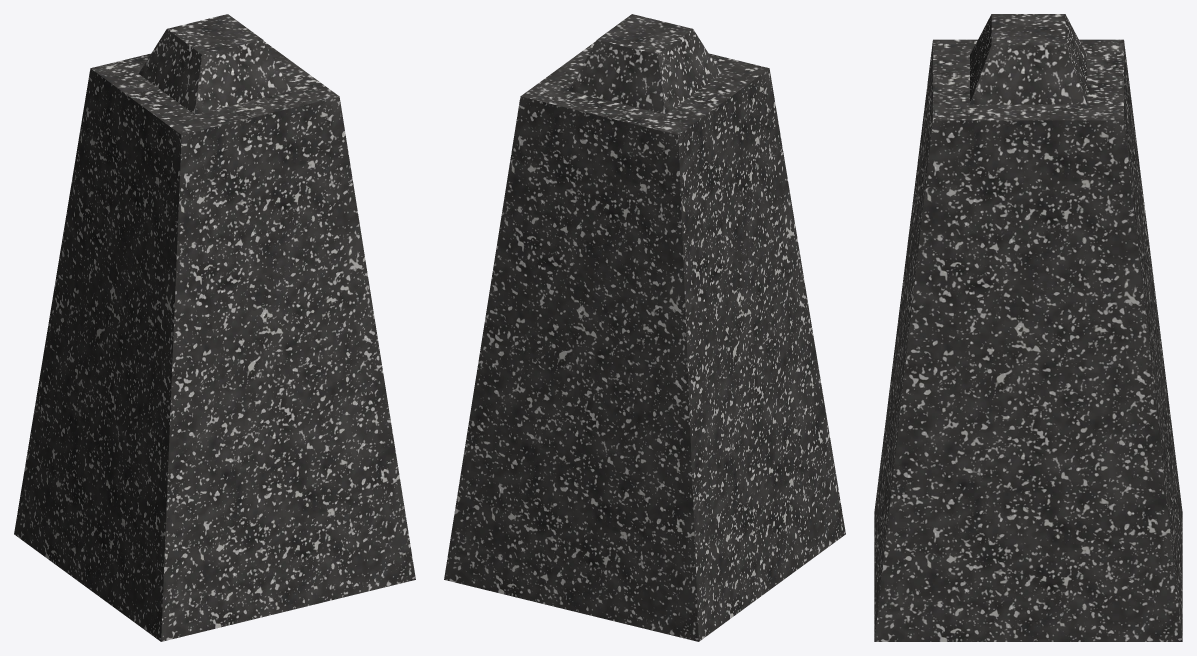
The model's file is queen-black.glb.
3 views of the same model, side by side, from view 1: azimuth 30°, elevation 25°; view 2: azimuth 150°, elevation 25°; view 3: azimuth 270°, elevation 25° (orthographic). The views are drawn at different scales.
Parts seen in each view (by area): view 1: Black_Queen; view 2: Black_Queen; view 3: Black_Queen.
Part boxes in pixels (<box>): Black_Queen: <box>14,14,415,641</box>; Black_Queen: <box>444,14,845,641</box>; Black_Queen: <box>874,14,1182,641</box>.
Bounding box in the file's own units: 0.6888 × 1.35 × 0.6888.
1 material, 1 textured.
